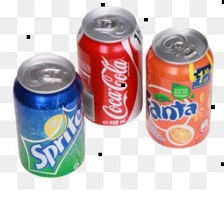can: (10, 50, 86, 180), (142, 24, 217, 150), (75, 3, 143, 128)
